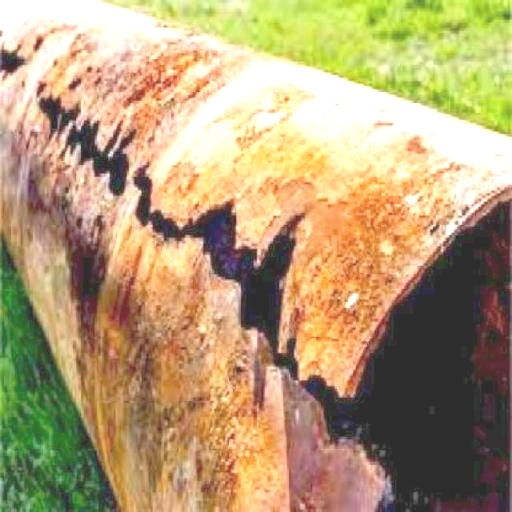crack: (124, 230, 426, 444), (74, 118, 254, 356), (58, 122, 193, 252)
